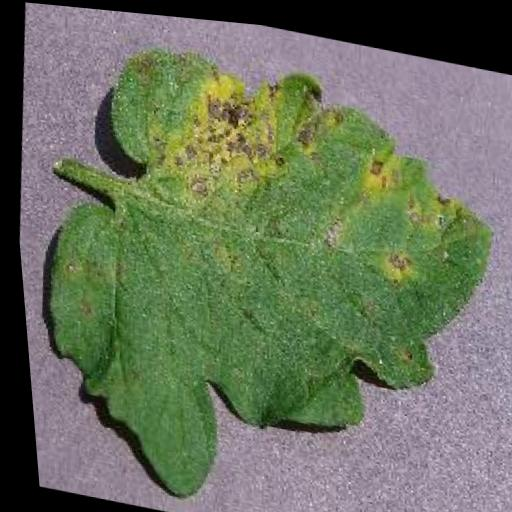Septoria: (9, 16, 512, 512)
